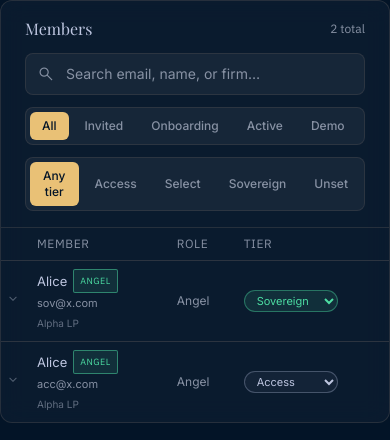
it: <MembersTable /> — filtering › filters by tier
Click the button "Sovereign" at (258,184), box [217, 162, 298, 206]
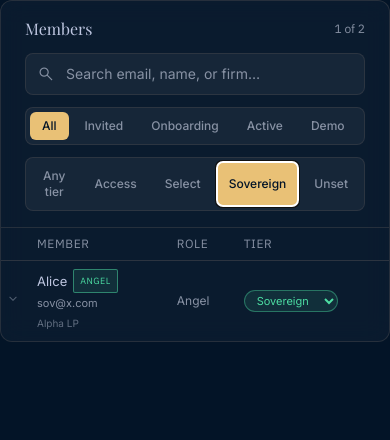
Expected: the text "sov@x.com" is shown, [37, 296, 98, 310]
Expected: the text "acc@x.com" is gone
